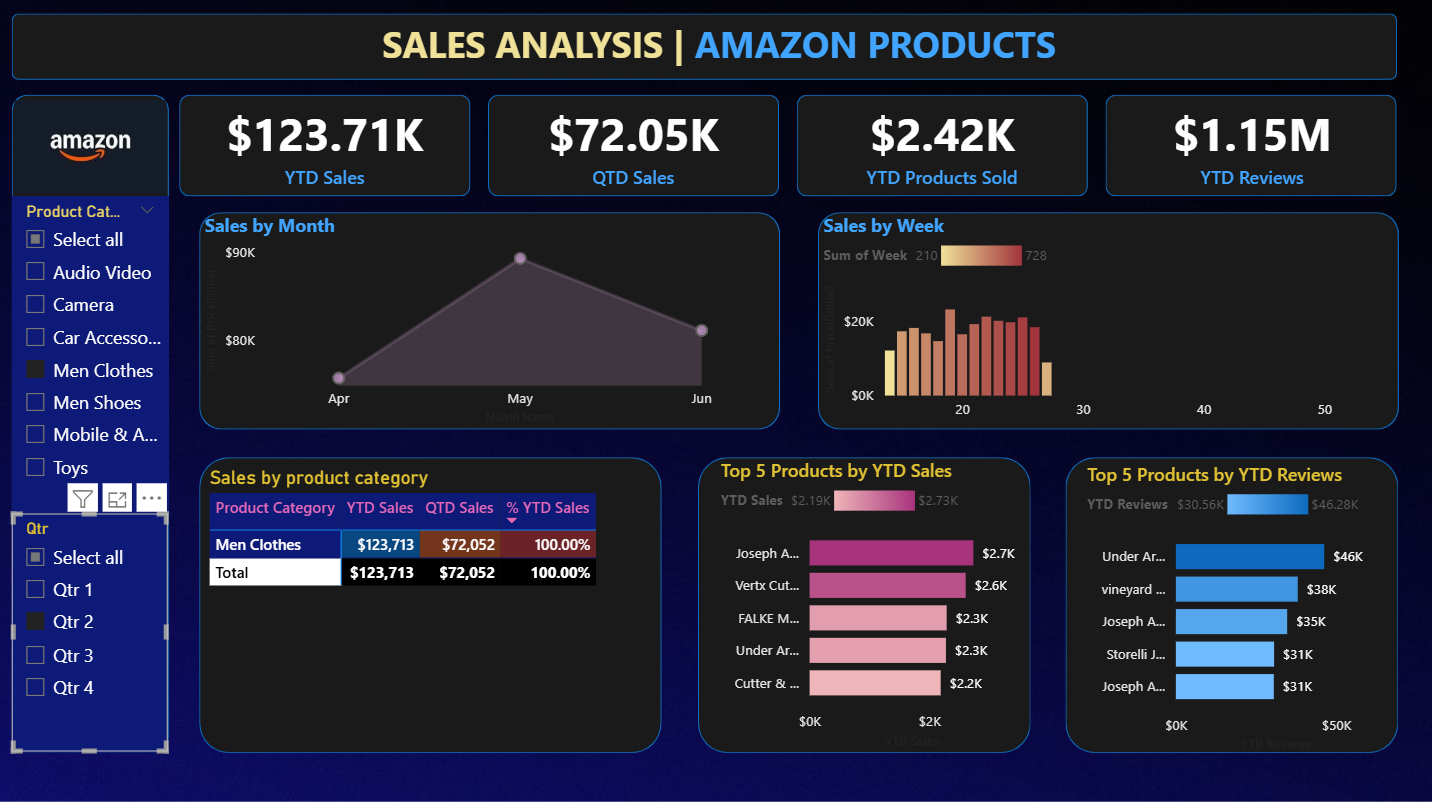

This screenshot's page, from the dashboard's own definition file:
{"tool":"powerbi","page":{"name":"Page 1","canvas":[1280,720],"ordinal":0},"visuals":[{"type":"shape","box":[711.7,87.8,259.3,90.6],"z":0,"group":"g1"},{"type":"shape","box":[179.8,192.1,517.3,193.5],"z":0},{"type":"shape","box":[12.3,15.1,1233.6,59],"z":1000},{"type":"shape","box":[12.3,87.8,140,585.9],"z":2000},{"type":"shape","box":[161.9,87.8,259.3,90.6],"z":3000,"group":"g1"},{"type":"textbox","box":[337.6,15.1,702.6,59],"z":3000},{"type":"card","fields":{"Values":["Amazon_Data.YTD Sales"]},"box":[161.9,87.8,259.3,90.6],"z":4000,"group":"g1"},{"type":"group","id":"g1","title":"Group 1","box":[161.9,87.8,1085.4,90.6],"z":4000},{"type":"shape","box":[436.8,87.8,259.3,90.6],"z":5000,"group":"g1"},{"type":"areaChart","title":"Sales by Month ","fields":{"Category":["Date Table.Month Name"],"Y":["Sum(Amazon_Data.Price(Dollar))"]},"box":[179.8,192.1,517.3,193.5],"z":5000},{"type":"shape","box":[986.6,87.8,259.3,90.6],"z":6000,"group":"g1"},{"type":"shape","box":[730,192.1,517.3,193.5],"z":6000},{"type":"card","fields":{"Values":["Amazon_Data.QTD Sales"]},"box":[436.3,87.8,259.3,90.6],"z":7000,"group":"g1"},{"type":"columnChart","title":"Sales by Week","fields":{"Category":["Date Table.Week"],"Y":["Sum(Amazon_Data.Price(Dollar))"]},"box":[730,192.1,517.3,193.5],"z":7000},{"type":"card","fields":{"Values":["Amazon_Data.YTD Products Sold"]},"box":[712.2,87.8,259.3,90.6],"z":8000,"group":"g1"},{"type":"shape","box":[179.8,410.3,411.7,263.5],"z":8000},{"type":"card","fields":{"Values":["Amazon_Data.YTD Reviews"]},"box":[988,87.8,259.3,90.6],"z":9000,"group":"g1"},{"type":"pivotTable","title":"Sales by product category","fields":{"Rows":["Amazon_Data.Product Category"],"Values":["Amazon_Data.YTD Sales1","Amazon_Data.QTD Sales","Amazon_Data.YTD Sales"]},"box":[183.9,418.5,402.1,255.2],"z":9000},{"type":"shape","box":[623,410.3,296.4,263.5],"z":10000},{"type":"shape","box":[950.9,410.3,296.4,263.5],"z":11000},{"type":"clusteredBarChart","title":"Top 5 Products by YTD Sales","fields":{"Category":["Amazon_Data.Product Description"],"Y":["Amazon_Data.YTD Sales"]},"box":[639.5,410.3,282.7,263.5],"z":12000},{"type":"clusteredBarChart","title":"Top 5 Products by YTD Reviews","fields":{"Category":["Amazon_Data.Product Description"],"Y":["Amazon_Data.YTD Reviews"]},"box":[964.7,414.4,282.7,263.5],"z":13000},{"type":"slicer","fields":{"Values":["Amazon_Data.Product Category"]},"box":[12.3,178.4,140,282.7],"z":14000},{"type":"slicer","fields":{"Values":["Date Table.Qtr"]},"box":[12.3,461.1,138.6,212.7],"z":15000},{"type":"image","box":[1.4,87.8,161.9,93.3],"z":16000}]}

Visuals, with their boxes in screenshot pixels (x1, y1, x2, y2), scaled from the page's 1280x720 canvas onto the 1432x802 screenshot:
shape: locate(796, 98, 1086, 199)
shape: locate(201, 214, 780, 430)
shape: locate(14, 17, 1394, 83)
shape: locate(14, 98, 170, 750)
shape: locate(181, 98, 471, 199)
textbox: locate(378, 17, 1164, 83)
card - Amazon_Data.YTD Sales: locate(181, 98, 471, 199)
"Group 1" group: locate(181, 98, 1395, 199)
shape: locate(489, 98, 779, 199)
"Sales by Month " areaChart: locate(201, 214, 780, 430)
shape: locate(1104, 98, 1394, 199)
shape: locate(817, 214, 1395, 430)
card - Amazon_Data.QTD Sales: locate(488, 98, 778, 199)
"Sales by Week" columnChart: locate(817, 214, 1395, 430)
card - Amazon_Data.YTD Products Sold: locate(797, 98, 1087, 199)
shape: locate(201, 457, 662, 751)
card - Amazon_Data.YTD Reviews: locate(1105, 98, 1395, 199)
"Sales by product category" pivotTable: locate(206, 466, 656, 750)
shape: locate(697, 457, 1029, 751)
shape: locate(1064, 457, 1395, 751)
"Top 5 Products by YTD Sales" clusteredBarChart: locate(715, 457, 1032, 751)
"Top 5 Products by YTD Reviews" clusteredBarChart: locate(1079, 462, 1396, 755)
slicer - Amazon_Data.Product Category: locate(14, 199, 170, 514)
slicer - Date Table.Qtr: locate(14, 514, 169, 751)
image: locate(2, 98, 183, 202)
